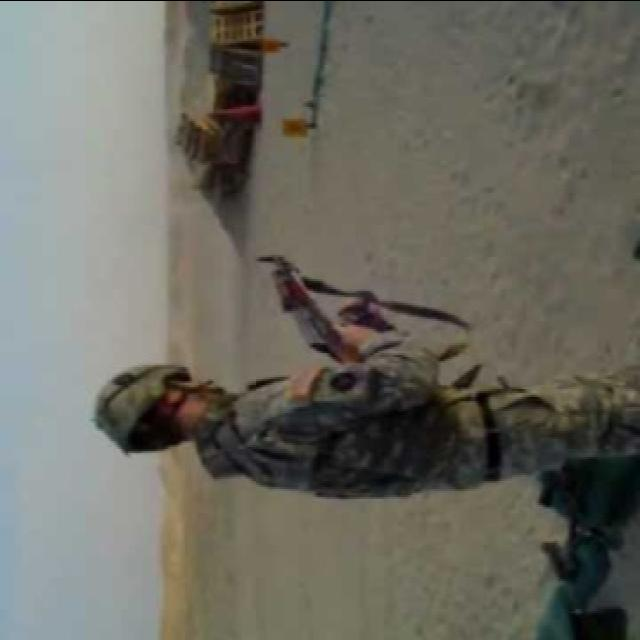rifle: (253, 245, 397, 381)
